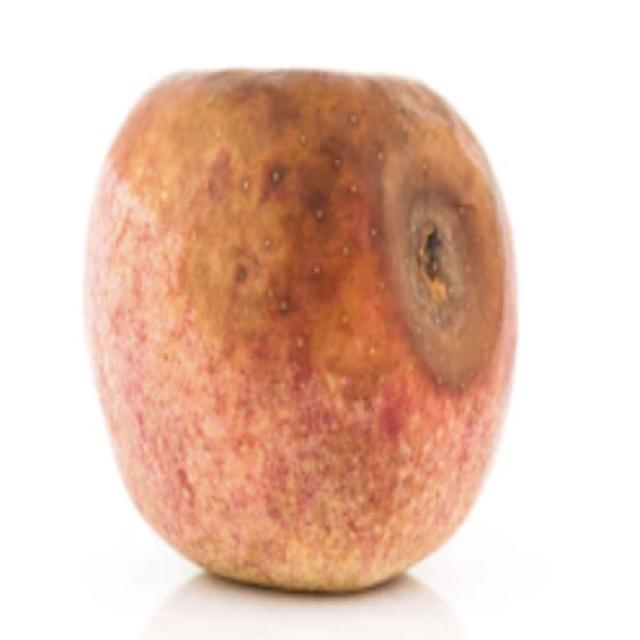rotten_apple: (92, 66, 519, 592)
